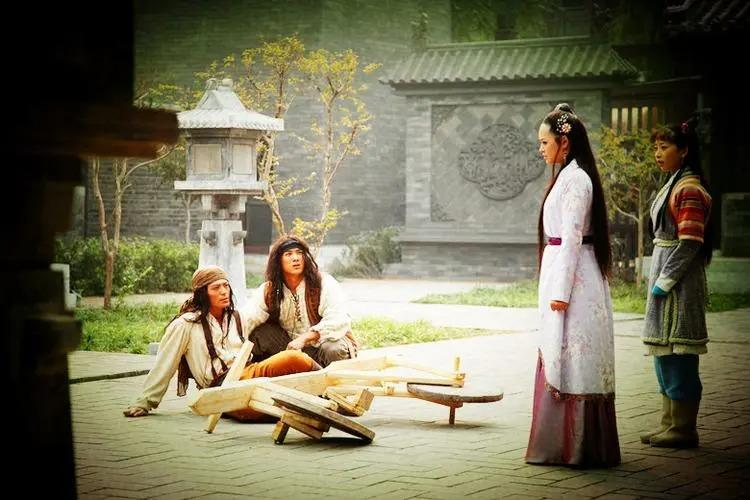bending: (128, 269, 313, 415), (237, 236, 372, 369)
up: (519, 96, 628, 477), (639, 117, 717, 449)
